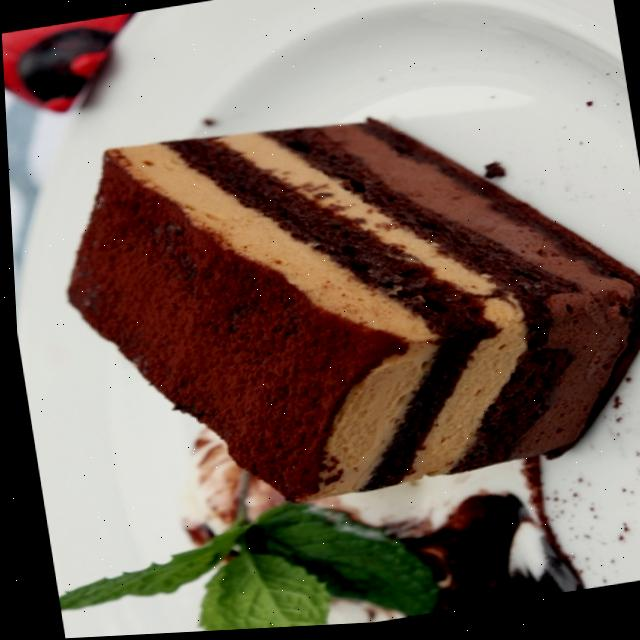蛋糕甜品: (2, 23, 640, 640)
